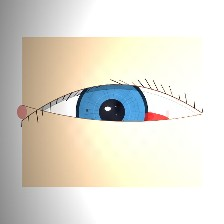hemorrhage_spot: (86, 83, 185, 162)
